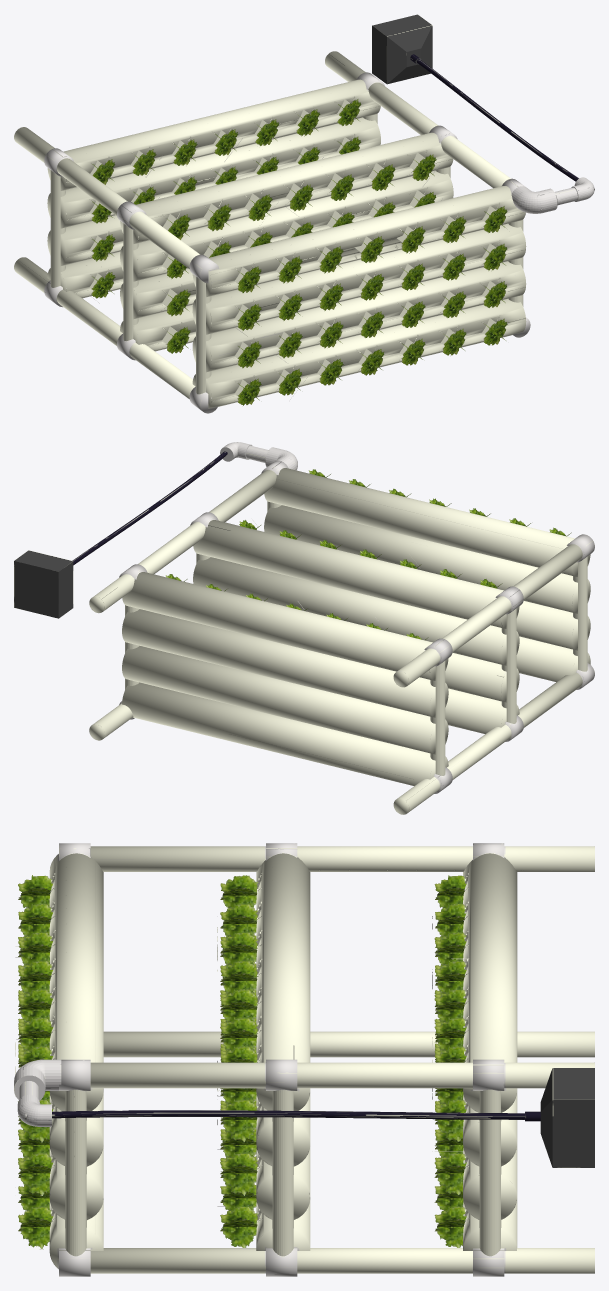
The model's file is Cultivos.fbx.
3 views of the same model, one above another, from view 1: azimuth 30°, elevation 25°; view 2: azimuth 150°, elevation 25°; view 3: azimuth 270°, elevation 25° (orthographic). The views are drawn at different scales.
Parts seen in each view (by area): view 1: Copia; view 2: Copia; view 3: Copia.
Boxes of the visible parts, <box> form: Copia: <box>14,14,594,413</box>; Copia: <box>14,442,594,814</box>; Copia: <box>14,843,594,1276</box>.
Bounding box in the file's own units: 1.3 × 0.5059 × 1.14.
1 material, 1 textured.
